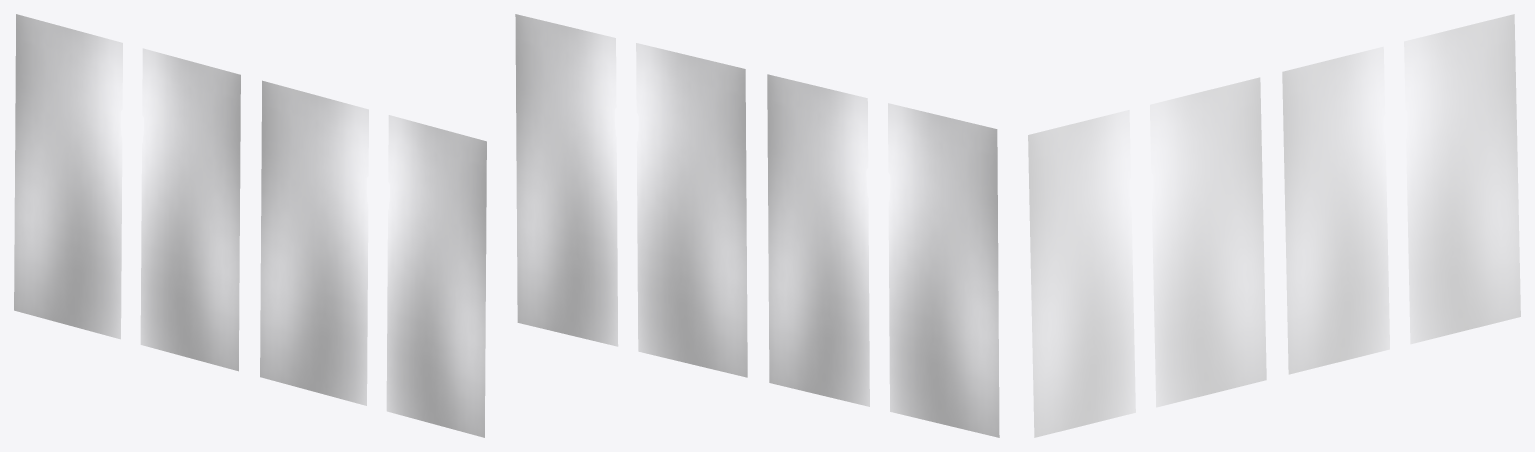
File: fridge1.001_fridgeglass_0.001_lev2.glb
The picture shows the model from 3 angles, left to right: view 1: azimuth 30°, elevation 25°; view 2: azimuth 210°, elevation 25°; view 3: azimuth 270°, elevation 25°; orthographic projection. The views are drawn at different scales.
Visible parts, largest first — view 1: fridge1.001_fridgeglass_0.001_lev2; view 2: fridge1.001_fridgeglass_0.001_lev2; view 3: fridge1.001_fridgeglass_0.001_lev2.
Part boxes in pixels (bbox=[...]): fridge1.001_fridgeglass_0.001_lev2: bbox=[14, 14, 486, 437]; fridge1.001_fridgeglass_0.001_lev2: bbox=[515, 14, 999, 437]; fridge1.001_fridgeglass_0.001_lev2: bbox=[1028, 14, 1520, 437].
Size of the model in its own units: 5.26 by 6.66 by 9.6.
1 material, 1 textured.
